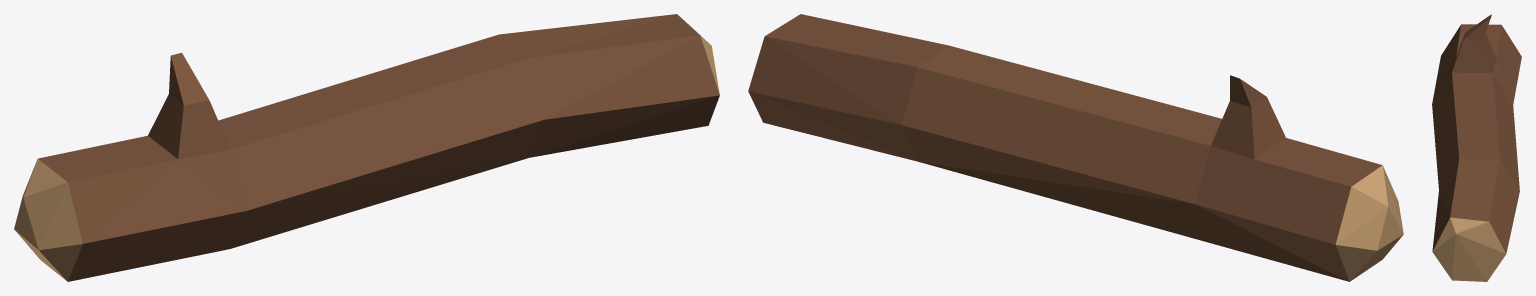
Rendered from foilage-branch.gltf.
The picture shows the model from 3 angles, left to right: view 1: azimuth 30°, elevation 25°; view 2: azimuth 150°, elevation 25°; view 3: azimuth 270°, elevation 25°; orthographic projection. The views are drawn at different scales.
Parts seen in each view (by area): view 1: Branch; view 2: Branch; view 3: Branch.
Boxes of the visible parts, x1,y1,x2,y2 form: Branch: [14, 14, 719, 281]; Branch: [748, 14, 1403, 281]; Branch: [1432, 14, 1521, 281].
Size of the model in its own units: 2.88 by 0.7452 by 0.5286.
